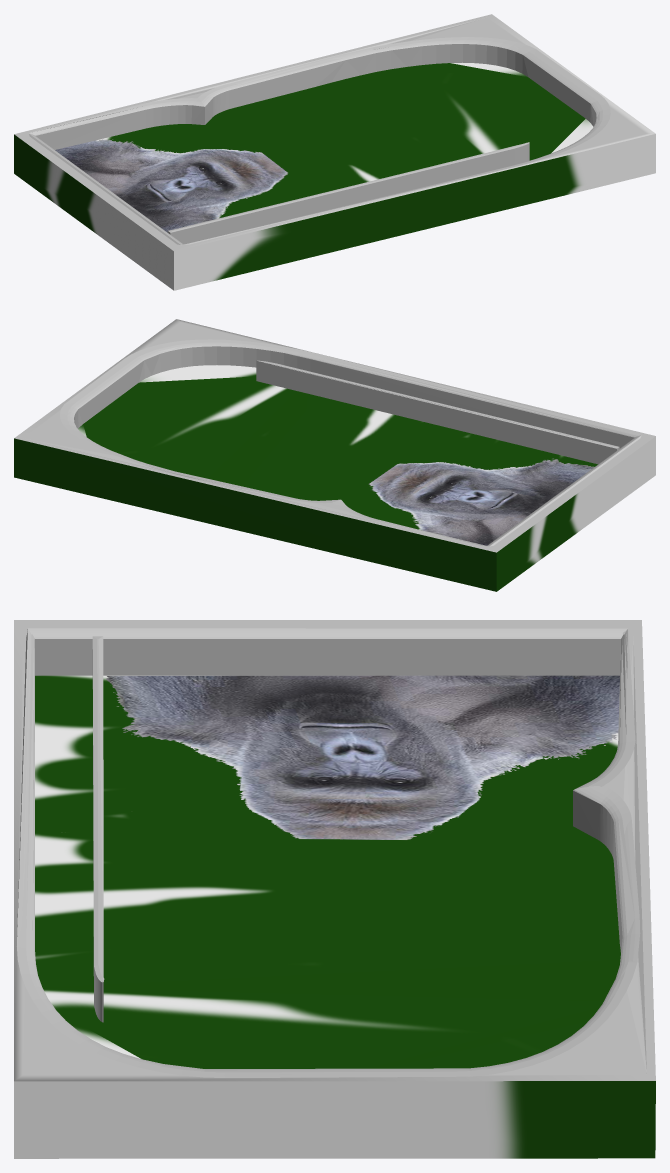
File: updatedTable.obj
3 views of the same model, one above another, from view 1: azimuth 30°, elevation 25°; view 2: azimuth 150°, elevation 25°; view 3: azimuth 270°, elevation 25° (orthographic). The views are drawn at different scales.
Visible parts, largest first — view 1: Board_Cube.006; view 2: Board_Cube.006; view 3: Board_Cube.006.
Boxes of the visible parts, box(x1,y1,x2,y2) form: Board_Cube.006: box(14, 14, 655, 290); Board_Cube.006: box(14, 319, 655, 591); Board_Cube.006: box(14, 620, 655, 1158).
Bounding box in the file's own units: 28.4 × 2.28 × 16.7.
